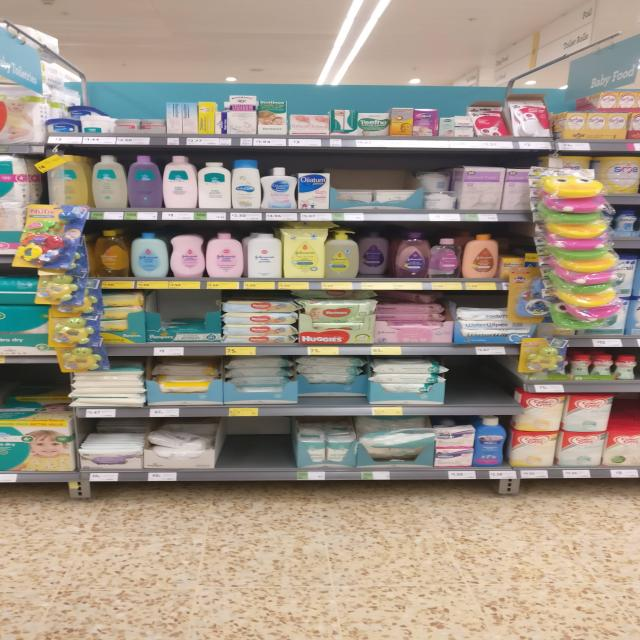void: (216, 416, 294, 466), (449, 356, 511, 406)
